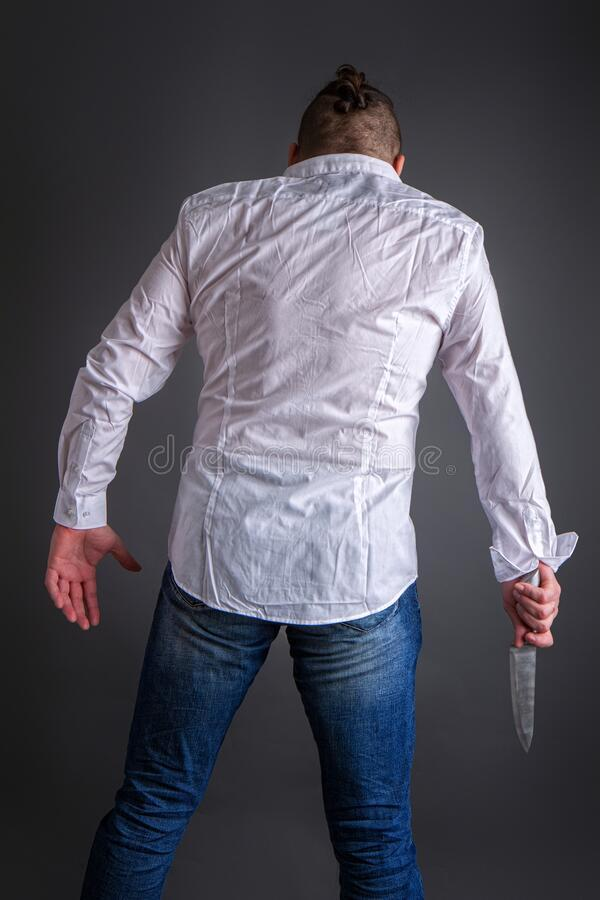weapon: (501, 550, 550, 761)
